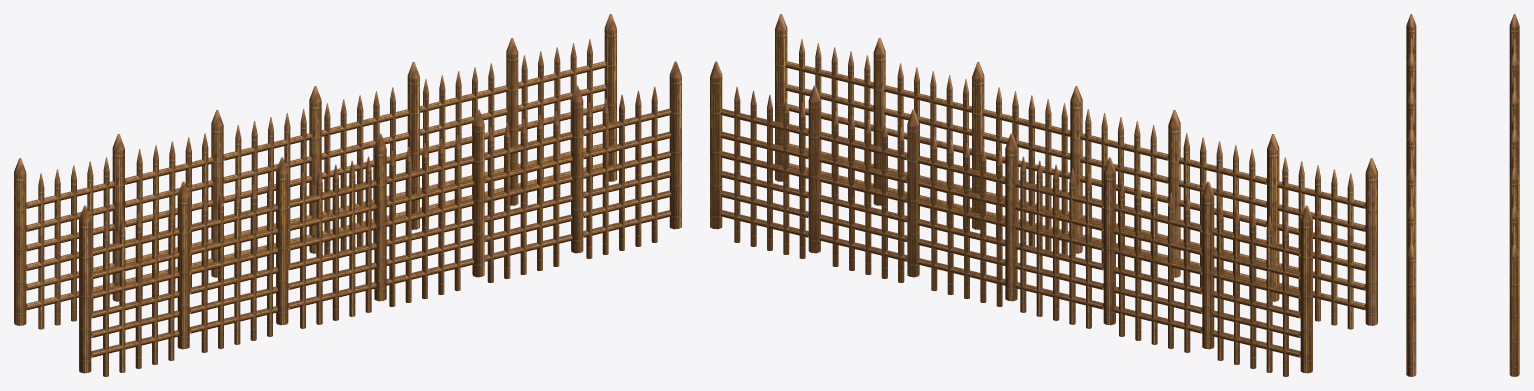
Rendered from maya_pali_curt.dae.
3 renders of one model, left to right at view 1: azimuth 30°, elevation 25°; view 2: azimuth 150°, elevation 25°; view 3: azimuth 270°, elevation 25°, orthographic. The views are drawn at different scales.
Visible parts, largest first — view 1: pali_curt; view 2: pali_curt; view 3: pali_curt.
Boxes of the visible parts, x1,y1,x2,y2 form: pali_curt: (14,14,681,376); pali_curt: (710,14,1377,376); pali_curt: (1406,14,1519,376).
Size of the model in its own units: 14.14 by 2.89 by 3.93.
